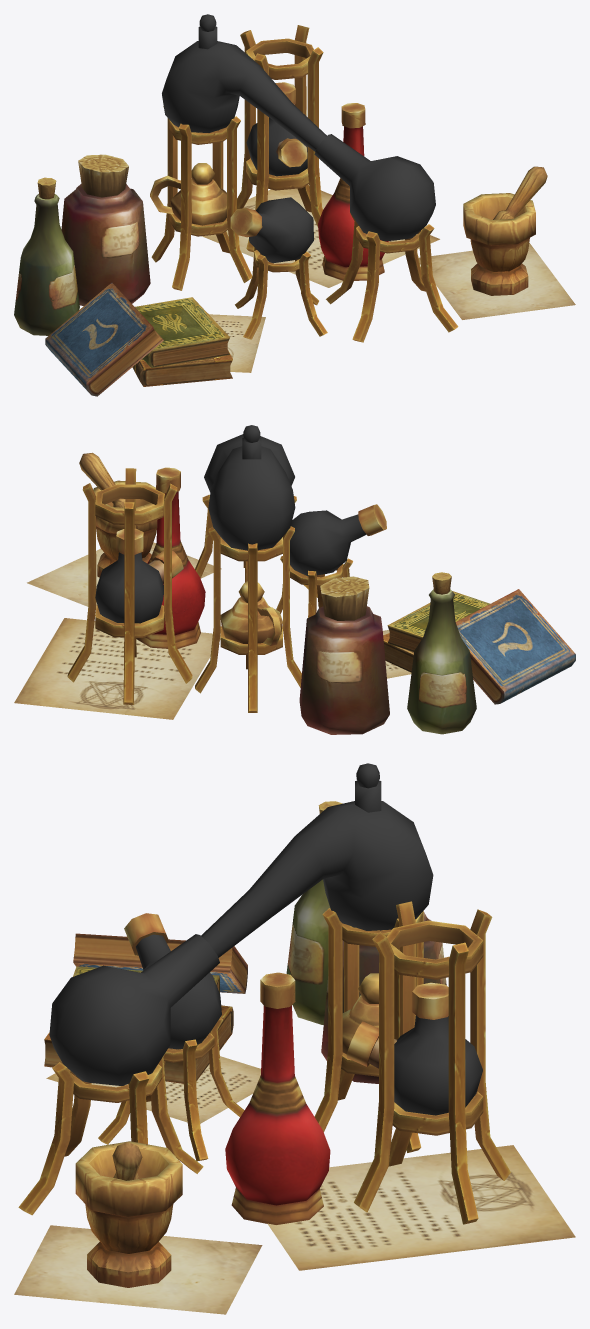
The model's file is Table_Preset_02.FBX.
The picture shows the model from 3 angles, top to bottom: view 1: azimuth 30°, elevation 25°; view 2: azimuth 150°, elevation 25°; view 3: azimuth 270°, elevation 25°; orthographic projection. The views are drawn at different scales.
Visible parts, largest first — view 1: Table_Preset_02; view 2: Table_Preset_02; view 3: Table_Preset_02.
Boxes of the visible parts, x1,y1,x2,y2 form: Table_Preset_02: (14, 14, 575, 396); Table_Preset_02: (14, 425, 575, 734); Table_Preset_02: (14, 763, 575, 1314).
Size of the model in its own units: 159 by 111 by 79.82.
